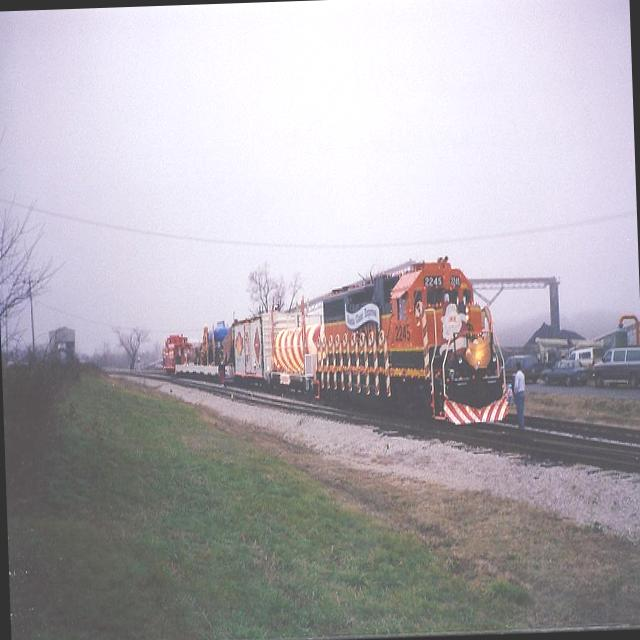Vehicle: (591, 345, 640, 388), (540, 358, 588, 388), (562, 344, 606, 376), (162, 333, 197, 372), (504, 354, 540, 384)
